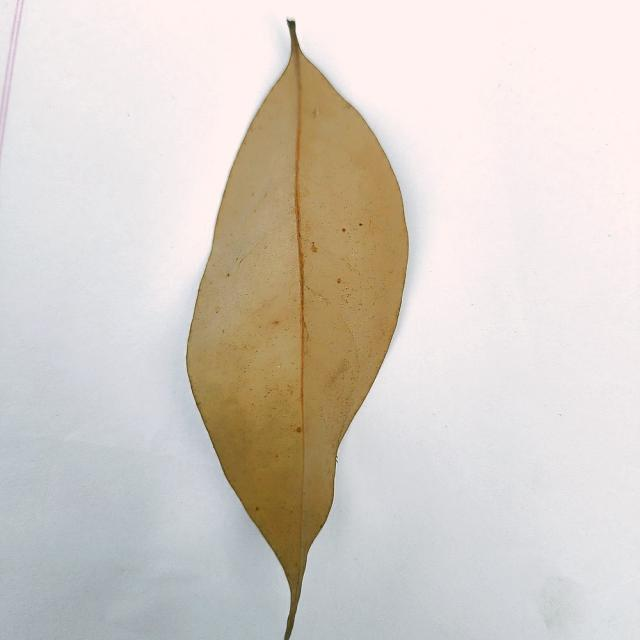Dry_Leaf-Lychee: (185, 20, 410, 639)
